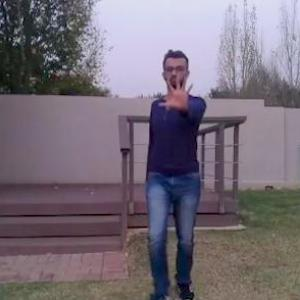follow_hand: (157, 72, 197, 110)
